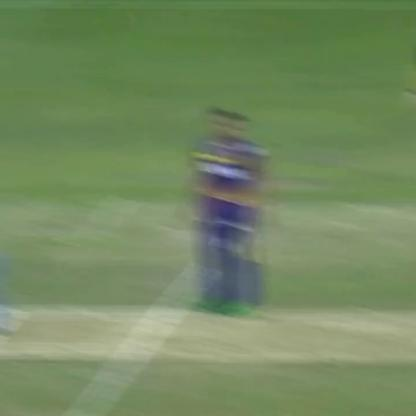pitch: (4, 293, 416, 388)
